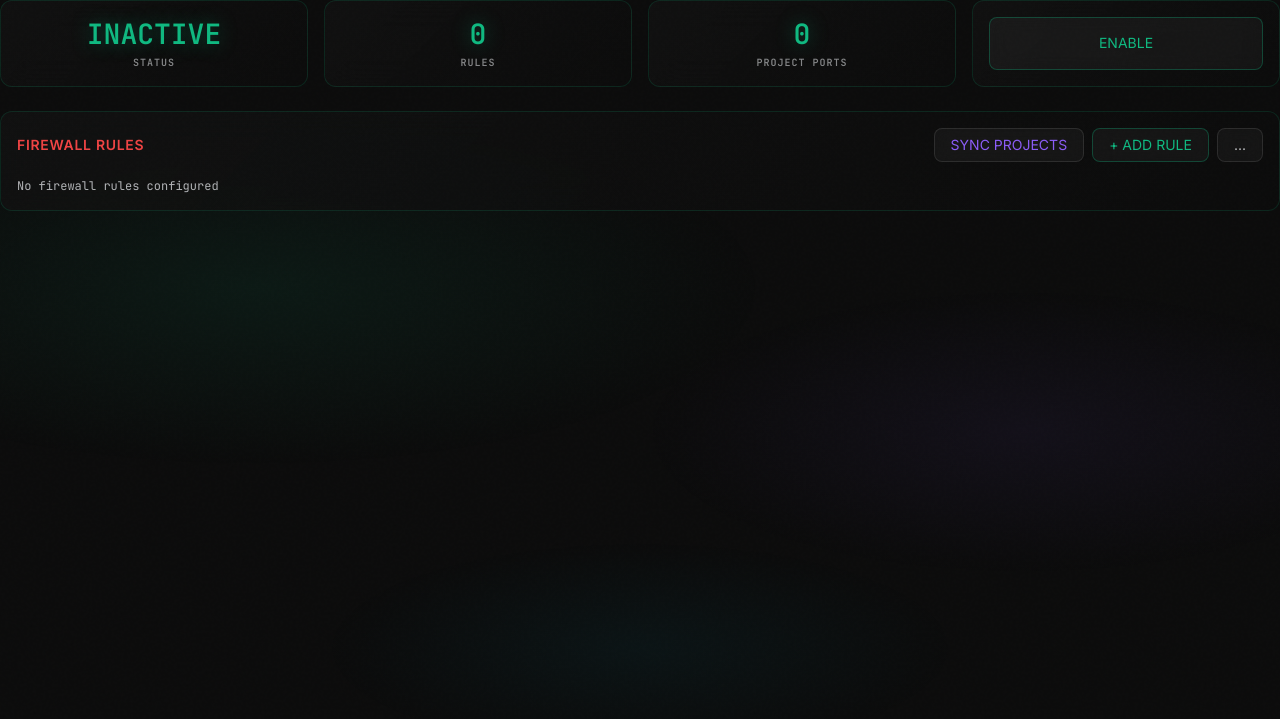
Test: FirewallPane › sync project ports › should show syncing state
The image size is (1280, 719).
Step 1. Click the button "SYNC PROJECTS" → x=1009, y=145, box [934, 128, 1084, 162]
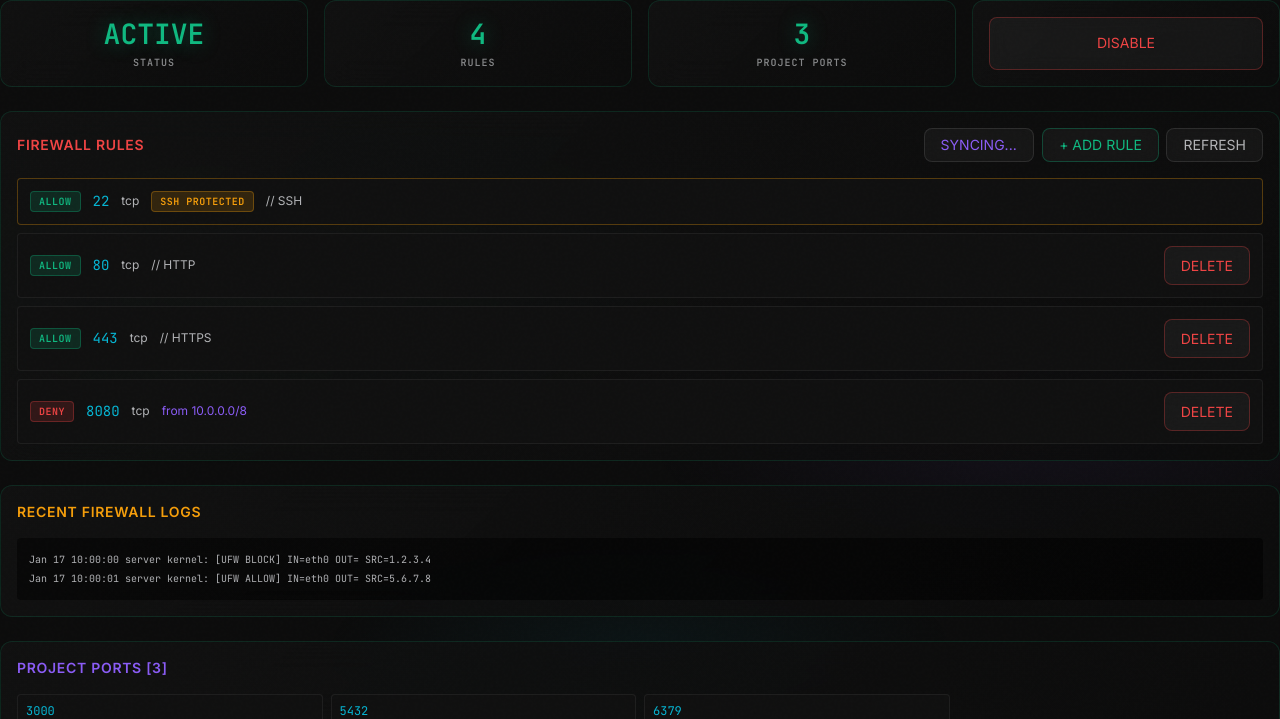
expect the button "SYNCING..." is shown: met, box [924, 128, 1034, 162]
